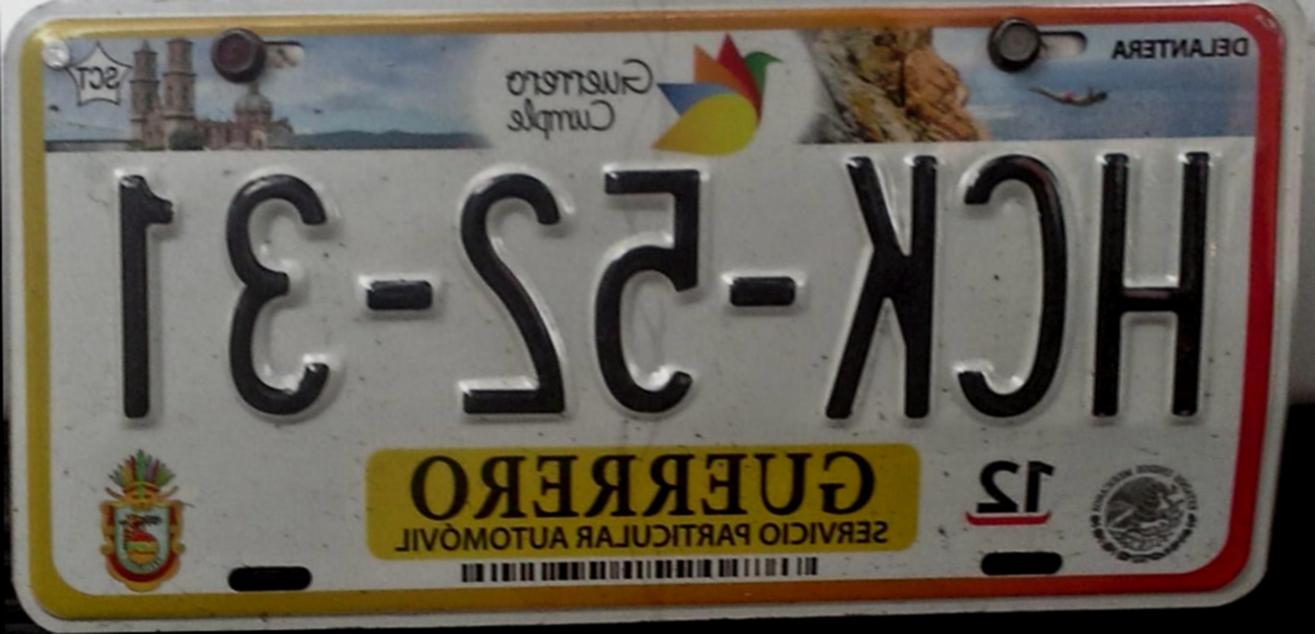License_Plate: (38, 13, 1298, 605)
